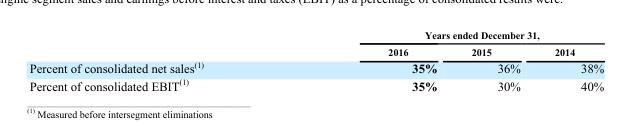table: (28, 28, 603, 92)
table column: (28, 28, 295, 92), (295, 28, 453, 92), (453, 28, 536, 92), (536, 28, 603, 92)
table column header: (28, 28, 603, 58)
table row: (28, 58, 603, 76), (28, 42, 603, 58), (28, 76, 603, 92), (28, 28, 603, 42)
table spanning cell: (295, 28, 603, 42)
